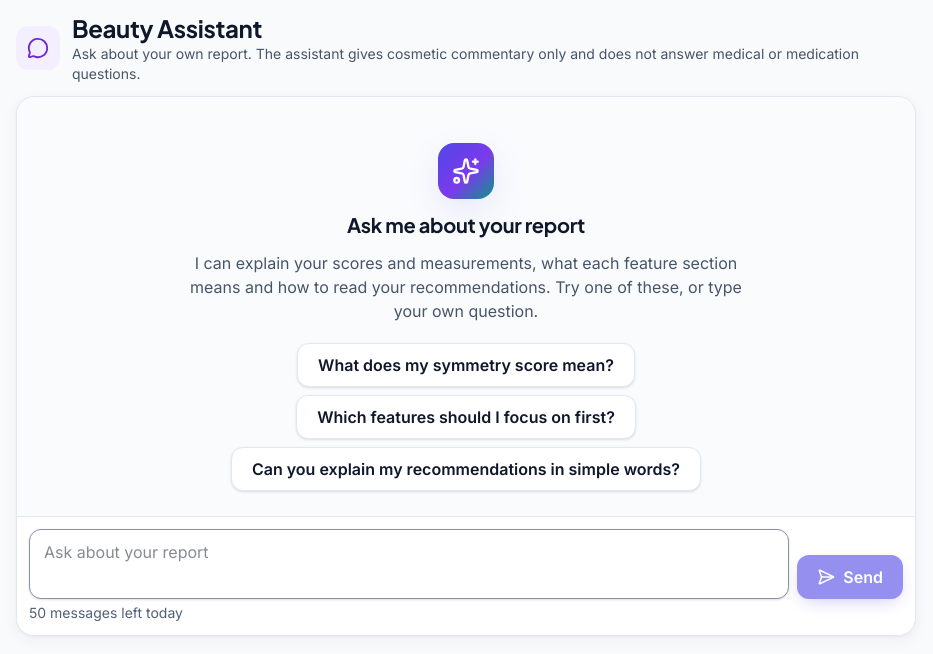
Test: The chat screen › keeps my message and shows an error toast when the assistant fails (AC10.1.4)
This screenshot has width=933, height=654.
Type "Will you answer?" into the text box with test id "chat-input" at (409, 564), box x1=29 y1=529 x2=789 y2=599
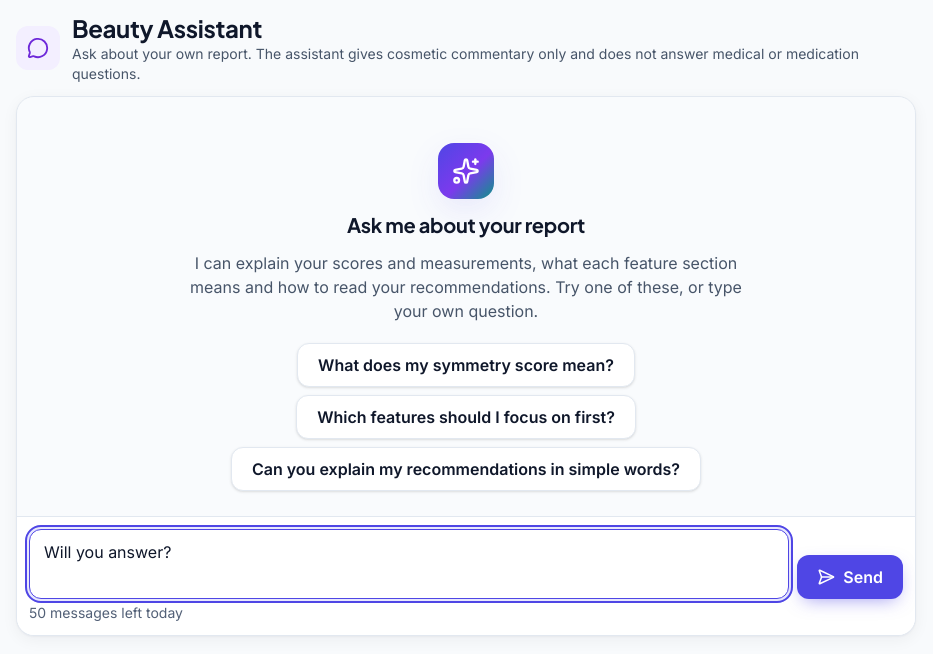
Click the button with test id "chat-send-button" at (850, 577), box x1=797 y1=555 x2=903 y2=599
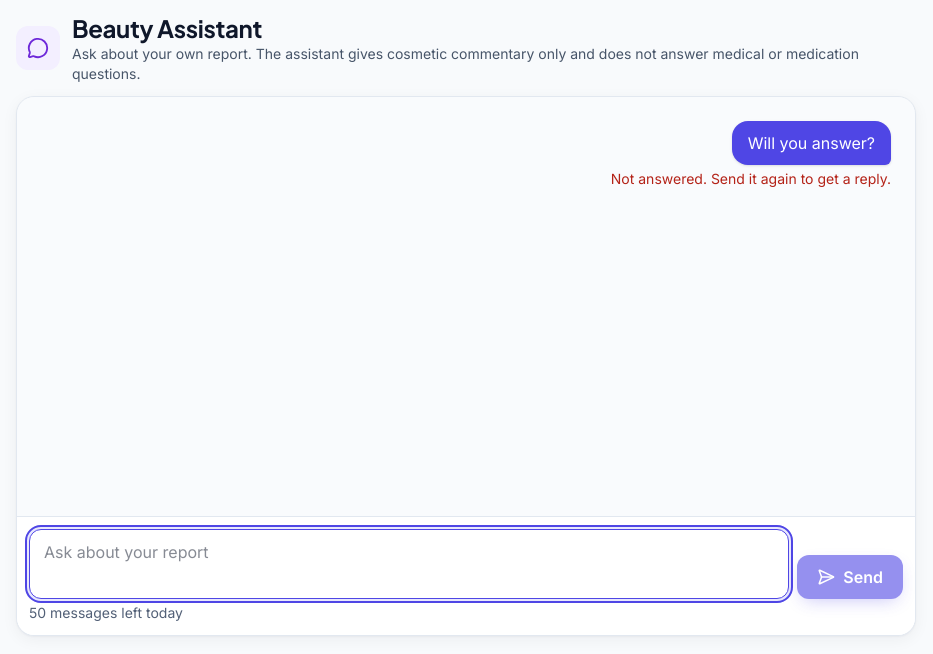
Expected: the text box with test id "chat-input" is enabled, x1=29 y1=529 x2=789 y2=599
Expected: the text with test id "chat-message-failed" shows "Not answered", x1=611 y1=170 x2=891 y2=187
Expected: the text "Will you answer?" is shown, x1=732 y1=121 x2=891 y2=165
